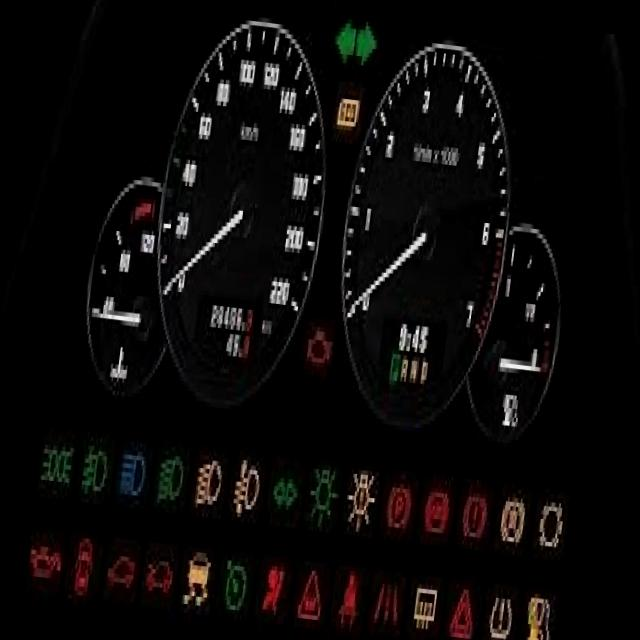kontrolka: (224, 438, 268, 541), (528, 494, 571, 564), (20, 532, 66, 596), (32, 434, 76, 500), (417, 481, 457, 552), (379, 478, 419, 548), (254, 555, 293, 626), (300, 314, 340, 383), (188, 450, 224, 526), (342, 471, 378, 544), (478, 584, 523, 640), (150, 448, 187, 515), (75, 440, 112, 506), (176, 549, 213, 614), (518, 591, 559, 640), (112, 448, 148, 502), (456, 489, 490, 546)
